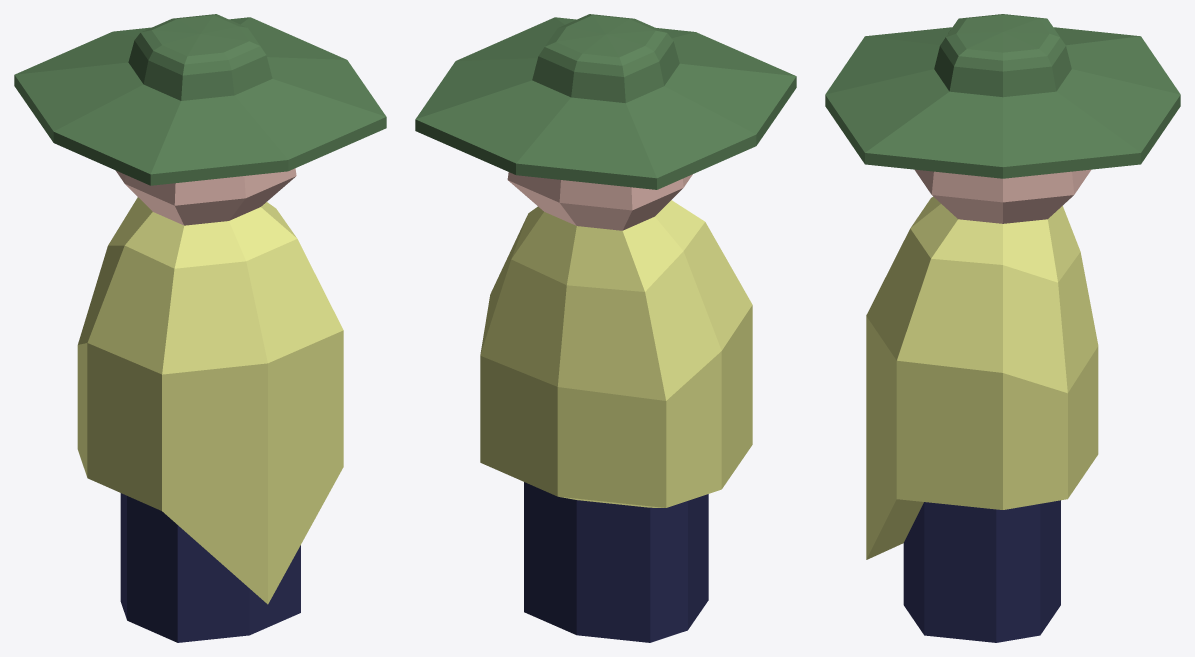
Rendered from Character2.fbx.
3 renders of one model, left to right at view 1: azimuth 30°, elevation 25°; view 2: azimuth 150°, elevation 25°; view 3: azimuth 270°, elevation 25°, orthographic. The views are drawn at different scales.
Visible parts, largest first — view 1: pCube41; view 2: pCube41; view 3: pCube41.
Part boxes in pixels (x1,y1,x2,y2): pCube41: [14, 14, 386, 642]; pCube41: [415, 14, 796, 642]; pCube41: [825, 14, 1180, 642].
Size of the model in its own units: 0.5693 by 1.05 by 0.5889.
